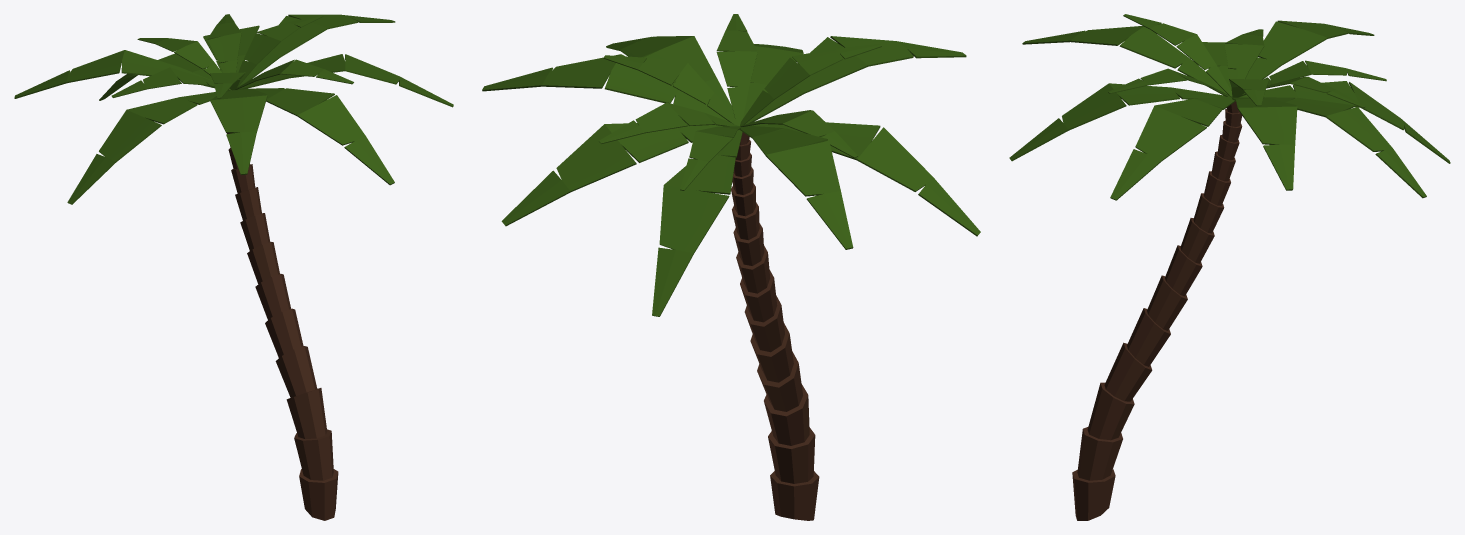
The model's file is tree_palm.glb.
3 views of the same model, side by side, from view 1: azimuth 30°, elevation 25°; view 2: azimuth 150°, elevation 25°; view 3: azimuth 270°, elevation 25° (orthographic). The views are drawn at different scales.
Visible parts, largest first — view 1: Palm_Base, Palm_Sheet_7, Palm_Sheet_1, Palm_Sheet_8, Palm_Sheet_2, Palm_Sheet_5, Palm_Sheet_6, Palm_Sheet_14, Palm_Sheet_13, Palm_Sheet_10, Palm_Sheet_9, Palm_Sheet_12 (+3 smaller); view 2: Palm_Base, Palm_Sheet_3, Palm_Sheet_4, Palm_Sheet_2, Palm_Sheet_1, Palm_Sheet_5, Palm_Sheet_8, Palm_Sheet_6, Palm_Sheet_12, Palm_Sheet_11, Palm_Sheet_14, Palm_Sheet_13 (+3 smaller); view 3: Palm_Base, Palm_Sheet_6, Palm_Sheet_7, Palm_Sheet_8, Palm_Sheet_5, Palm_Sheet_4, Palm_Sheet_2, Palm_Sheet_3, Palm_Sheet_11, Palm_Sheet_10, Palm_Sheet_9, Palm_Sheet_12 (+3 smaller).
Part boxes in pixels (<box>): Palm_Base: <box>226,133,338,520</box>; Palm_Sheet_7: <box>247,88,394,185</box>; Palm_Sheet_1: <box>67,92,216,204</box>; Palm_Sheet_8: <box>210,88,267,174</box>; Palm_Sheet_2: <box>14,50,228,98</box>; Palm_Sheet_5: <box>238,14,395,86</box>; Palm_Sheet_6: <box>238,54,453,107</box>; Palm_Sheet_14: <box>237,15,323,87</box>; Palm_Sheet_13: <box>207,14,241,72</box>; Palm_Sheet_10: <box>111,67,231,97</box>; Palm_Sheet_9: <box>137,38,221,75</box>; Palm_Sheet_12: <box>235,59,353,89</box>; Palm_Base: <box>731,132,819,520</box>; Palm_Sheet_3: <box>652,129,742,316</box>; Palm_Sheet_4: <box>501,123,722,226</box>; Palm_Sheet_2: <box>739,125,853,249</box>; Palm_Sheet_1: <box>751,122,980,236</box>; Palm_Sheet_5: <box>482,54,728,121</box>; Palm_Sheet_8: <box>745,36,966,124</box>; Palm_Sheet_6: <box>606,36,734,117</box>; Palm_Sheet_12: <box>716,14,757,125</box>; Palm_Sheet_11: <box>740,44,881,125</box>; Palm_Sheet_14: <box>603,55,739,125</box>; Palm_Sheet_13: <box>599,102,738,143</box>; Palm_Base: <box>1072,101,1242,520</box>; Palm_Sheet_6: <box>1110,97,1235,200</box>; Palm_Sheet_7: <box>1009,83,1225,161</box>; Palm_Sheet_8: <box>1022,26,1229,96</box>; Palm_Sheet_5: <box>1232,97,1297,190</box>; Palm_Sheet_4: <box>1239,97,1426,198</box>; Palm_Sheet_2: <box>1245,20,1374,79</box>; Palm_Sheet_3: <box>1240,81,1450,163</box>; Palm_Sheet_11: <box>1123,14,1232,96</box>; Palm_Sheet_10: <box>1224,29,1264,91</box>; Palm_Sheet_9: <box>1238,60,1386,97</box>; Palm_Sheet_12: <box>1108,68,1233,97</box>.
Size of the model in its own units: 5.16 by 5.73 by 5.
